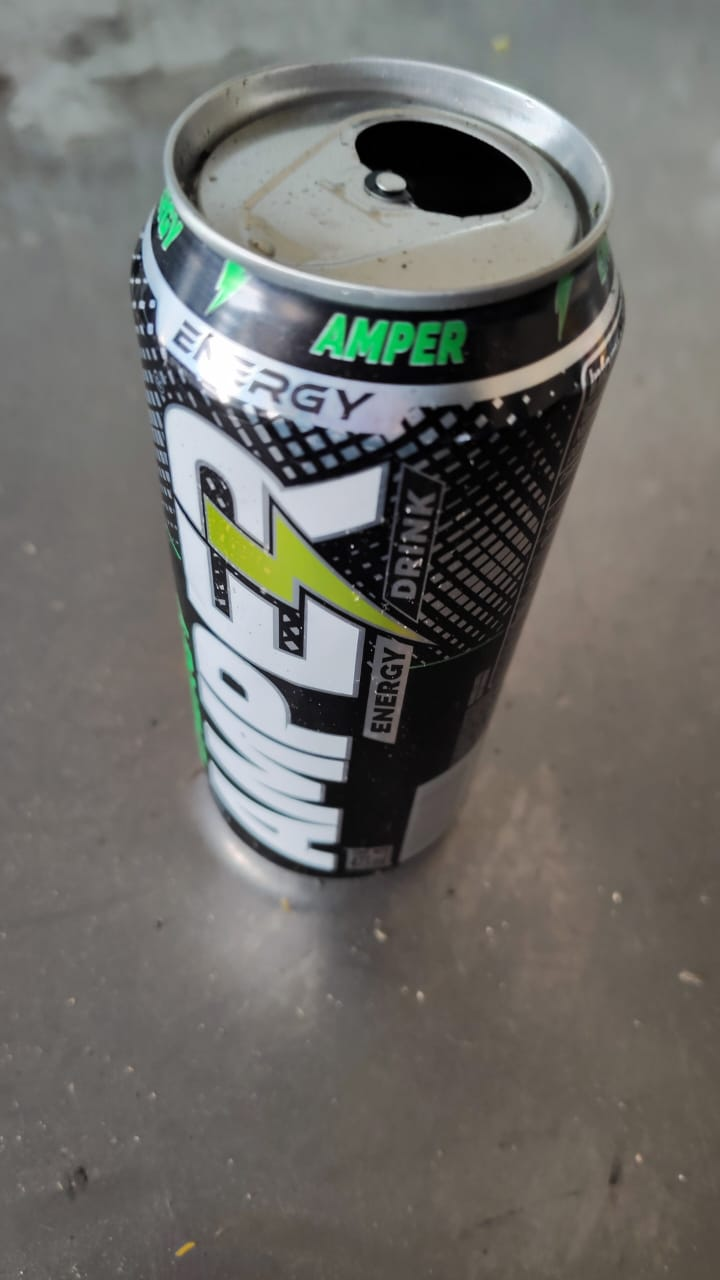Metal: (132, 55, 630, 885)
